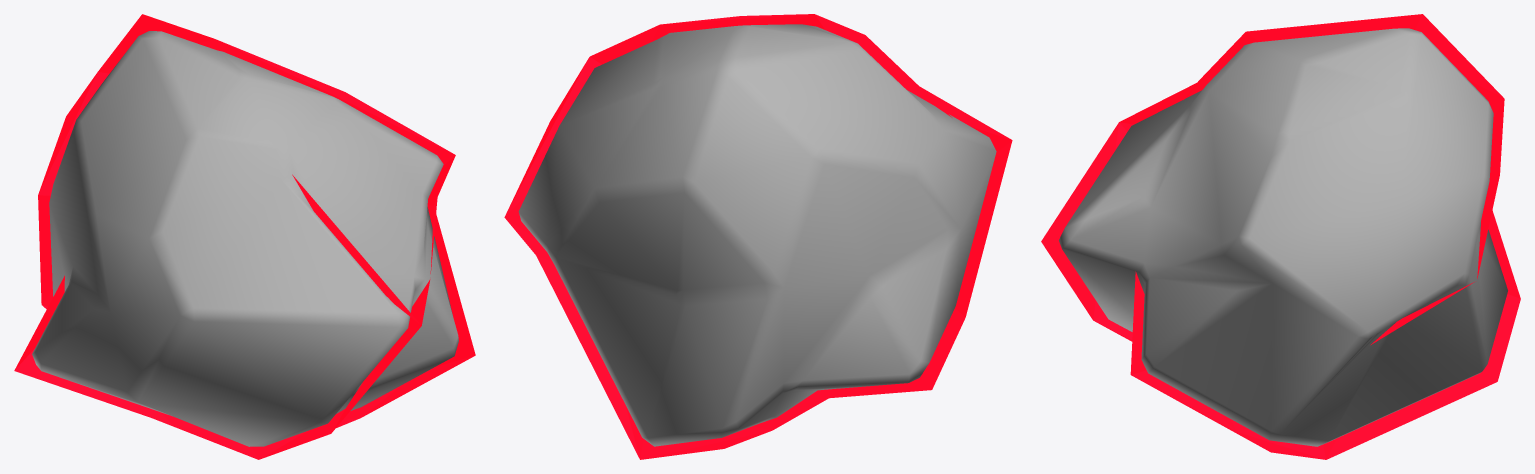
The model's file is Asteroid.gltf.
3 views of the same model, side by side, from view 1: azimuth 30°, elevation 25°; view 2: azimuth 150°, elevation 25°; view 3: azimuth 270°, elevation 25° (orthographic). The views are drawn at different scales.
Parts seen in each view (by area): view 1: Asteroid, Outline; view 2: Asteroid, Outline; view 3: Asteroid, Outline.
Boxes of the visible parts, <box> form: Asteroid: <box>32,31,458,446</box>; Outline: <box>14,14,475,459</box>; Asteroid: <box>518,24,996,446</box>; Outline: <box>504,14,1012,459</box>; Asteroid: <box>1059,28,1507,446</box>; Outline: <box>1041,14,1520,459</box>.
Size of the model in its own units: 2.22 by 2.16 by 2.41.
